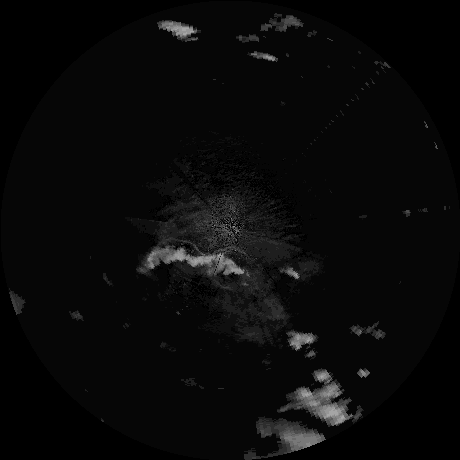frontgust: (151, 238, 205, 255), (213, 247, 249, 259)
